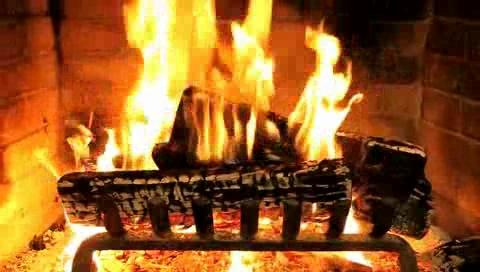fire: (111, 5, 349, 192)
